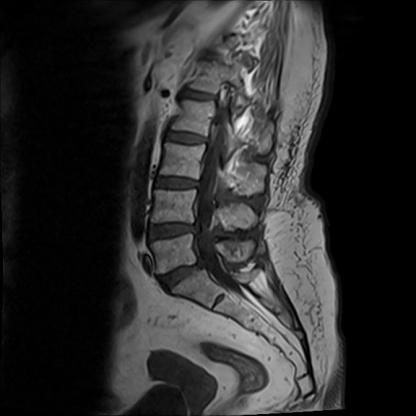Disc Bulgerotation: (147, 218, 200, 246), (156, 263, 205, 286)
